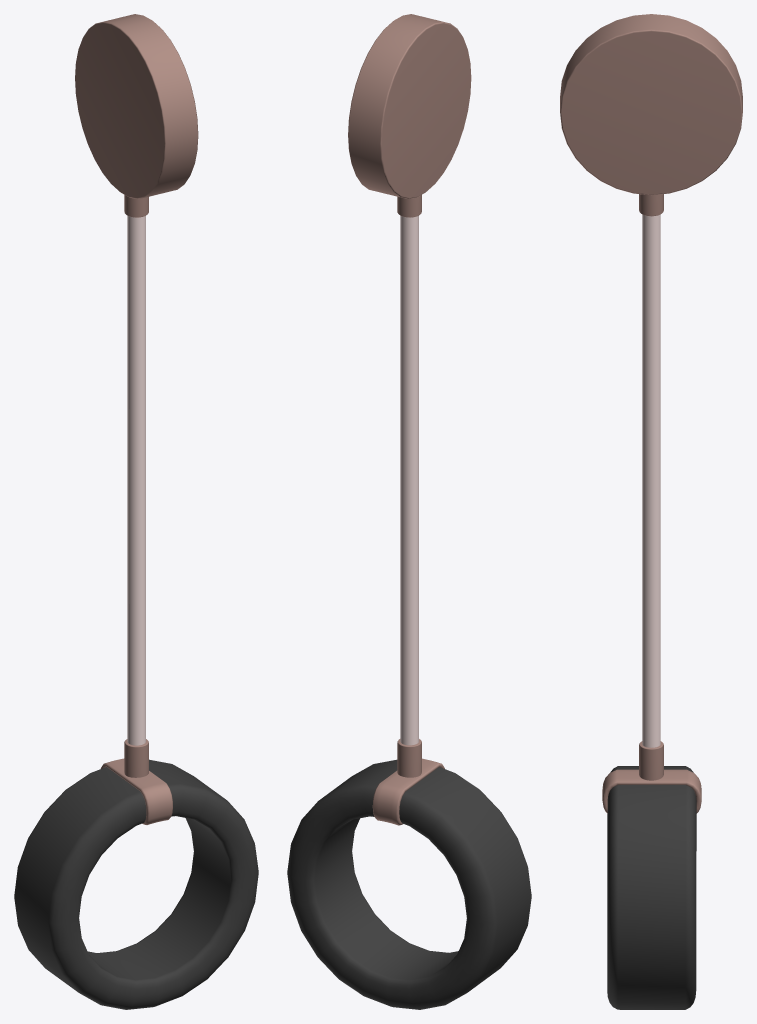
Rendered from Town_13_Wheel_Swing_1.glb.
3 renders of one model, left to right at view 1: azimuth 30°, elevation 25°; view 2: azimuth 150°, elevation 25°; view 3: azimuth 270°, elevation 25°, orthographic.
Visible parts, largest first — view 1: Town_13_Wheel_Swing_1; view 2: Town_13_Wheel_Swing_1; view 3: Town_13_Wheel_Swing_1.
Boxes of the visible parts, x1,y1,x2,y2 form: Town_13_Wheel_Swing_1: [14, 14, 258, 1009]; Town_13_Wheel_Swing_1: [287, 14, 531, 1009]; Town_13_Wheel_Swing_1: [560, 14, 742, 1009].
Size of the model in its own units: 0.7178 by 3.16 by 0.5361.
Materials: 1 (1 with a texture image).
